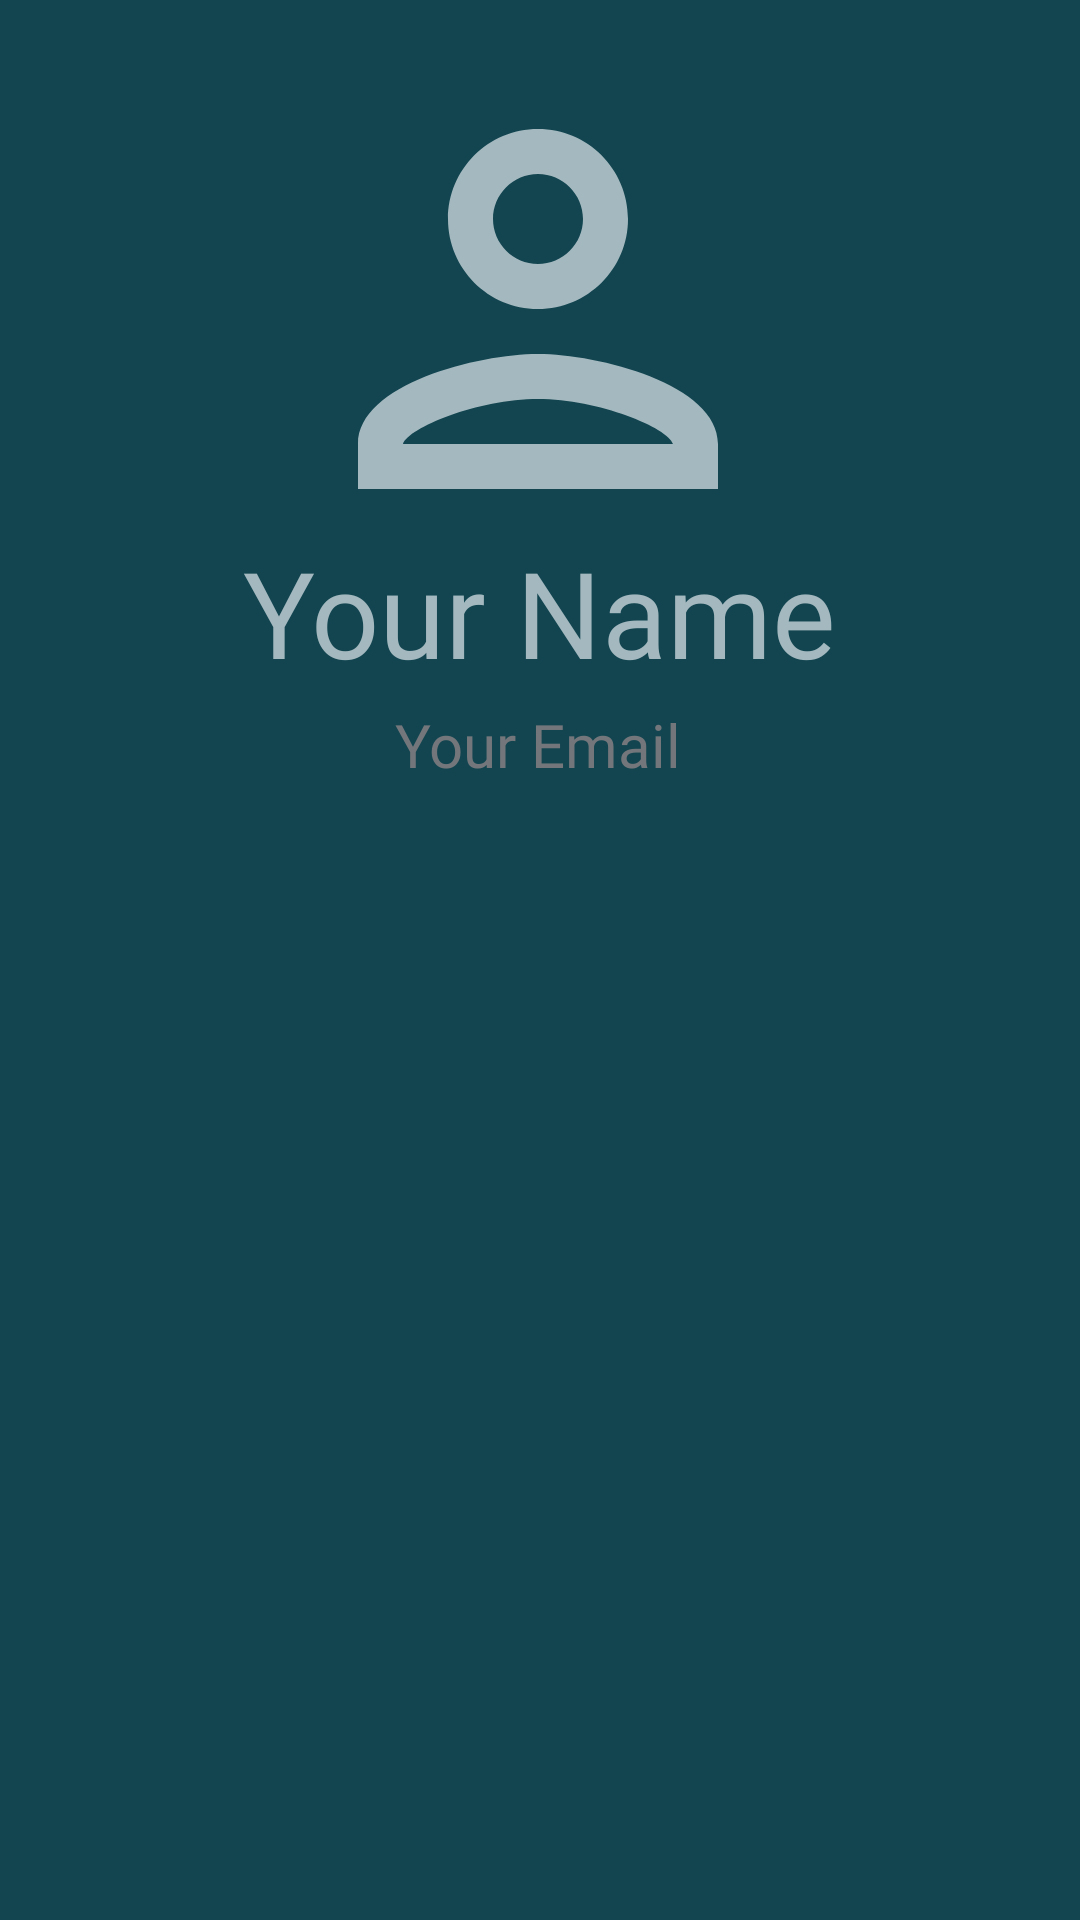

Named icons in this screenshot (1080 x 1920) and their bounding boxes, box(x1, y1, x2, y2):
person: box(358, 129, 718, 489)
